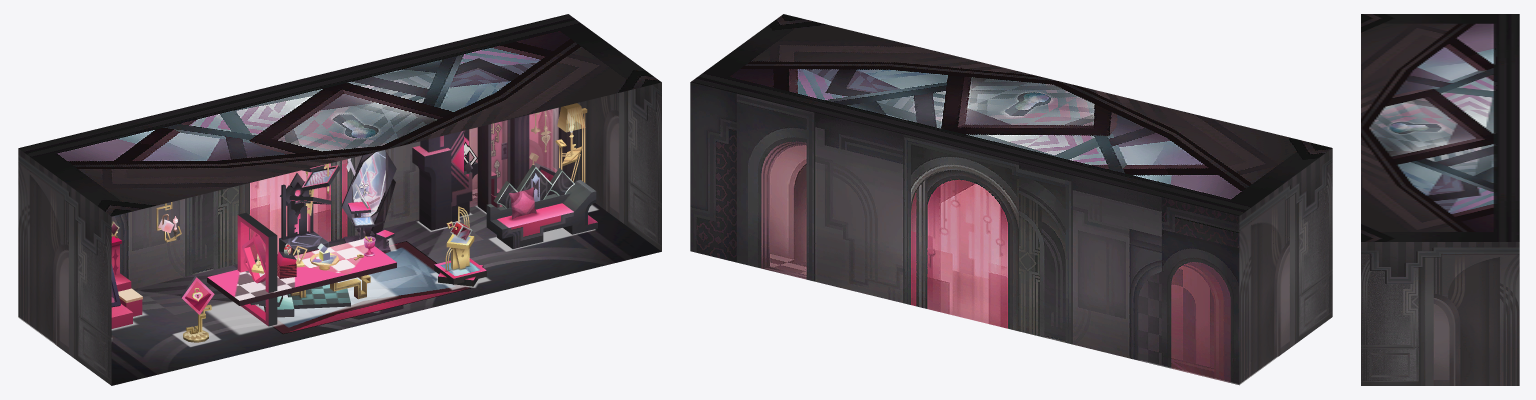
The model's file is mindsanctum.glb.
The picture shows the model from 3 angles, left to right: view 1: azimuth 30°, elevation 25°; view 2: azimuth 150°, elevation 25°; view 3: azimuth 270°, elevation 25°; orthographic projection. The views are drawn at different scales.
Visible parts, largest first — view 1: ROOM_room, ROOM_floor, furni_mindsanctum_table_01, furni_mindsanctum_sofa_01, furni_mindsanctum_cabinet_01, furni_mindsanctum_carpet_01, furni_mindsanctum_column_01, furni_mindsanctum_mirror_03, furni_mindsanctum_cabinet_04, shadow_01.003, furni_mindsanctum_chair_01, furni_mindsanctum_ornament_01 (+8 smaller); view 2: ROOM_room, ROOM_LDoor; view 3: ROOM_room, ROOM_RDoor.
Boxes of the visible parts, x1=… form: ROOM_room: x1=18, y1=14, x2=661, y2=385; ROOM_floor: x1=111, y1=203, x2=661, y2=385; furni_mindsanctum_table_01: x1=207, y1=212, x2=396, y2=326; furni_mindsanctum_sofa_01: x1=486, y1=165, x2=597, y2=248; furni_mindsanctum_cabinet_01: x1=477, y1=107, x2=573, y2=212; furni_mindsanctum_carpet_01: x1=256, y1=241, x2=470, y2=334; furni_mindsanctum_column_01: x1=412, y1=129, x2=477, y2=230; furni_mindsanctum_mirror_03: x1=341, y1=150, x2=396, y2=236; furni_mindsanctum_cabinet_04: x1=491, y1=107, x2=558, y2=206; shadow_01.003: x1=205, y1=275, x2=397, y2=334; furni_mindsanctum_chair_01: x1=279, y1=173, x2=328, y2=255; furni_mindsanctum_ornament_01: x1=434, y1=206, x2=486, y2=286; ROOM_room: x1=690, y1=14, x2=1332, y2=385; ROOM_LDoor: x1=1299, y1=250, x2=1318, y2=340; ROOM_room: x1=1361, y1=14, x2=1519, y2=385; ROOM_RDoor: x1=1384, y1=320, x2=1416, y2=385.
Bounding box in the file's own units: 7.52 × 2.2 × 2.23.
7 materials, 7 textured.
